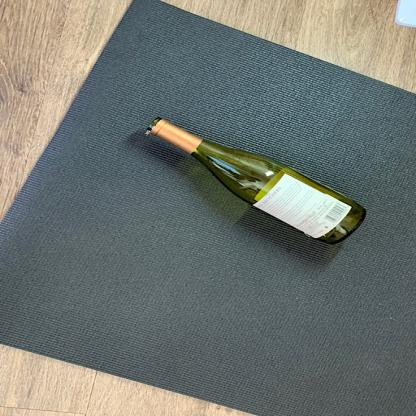trash: (140, 112, 369, 247)
